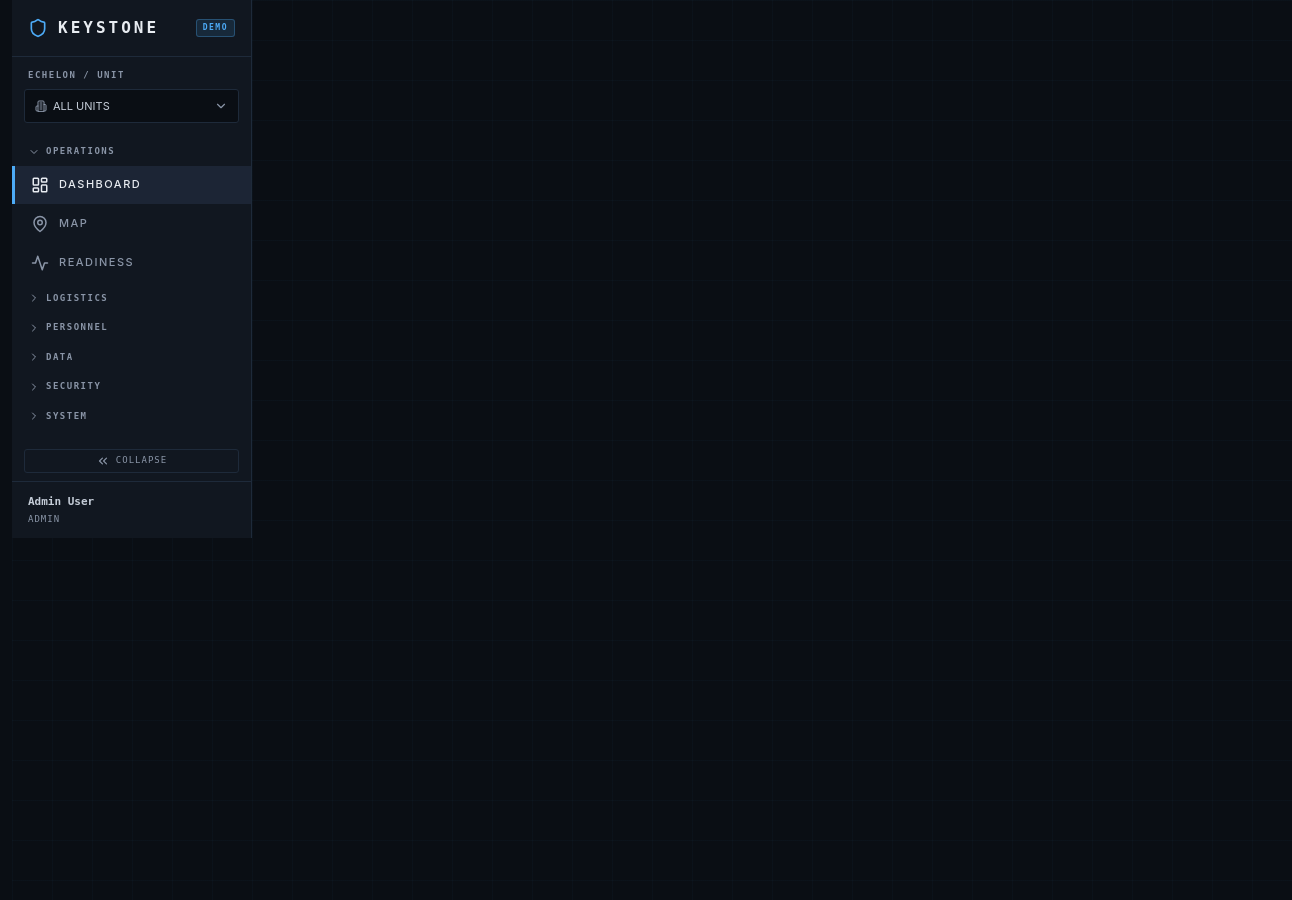
Scenario: Sidebar › shows alert badge count in the alerts nav item
Note: Expand SECURITY group first to see ALERTS
Click the button "SECURITY" at (132, 387), box [12,374,251,400]
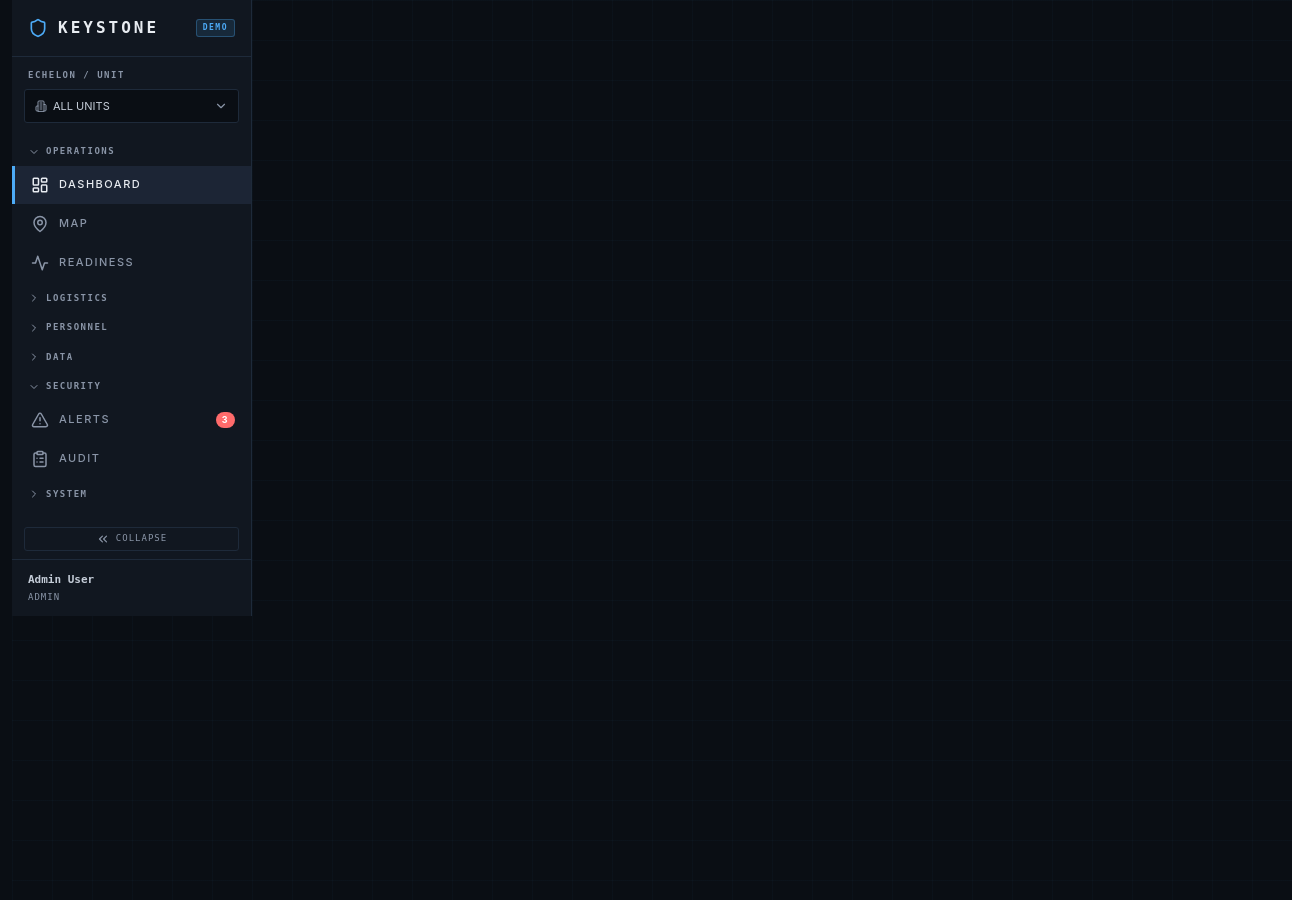
Now the text "3" is shown, box [216,412,235,428]
